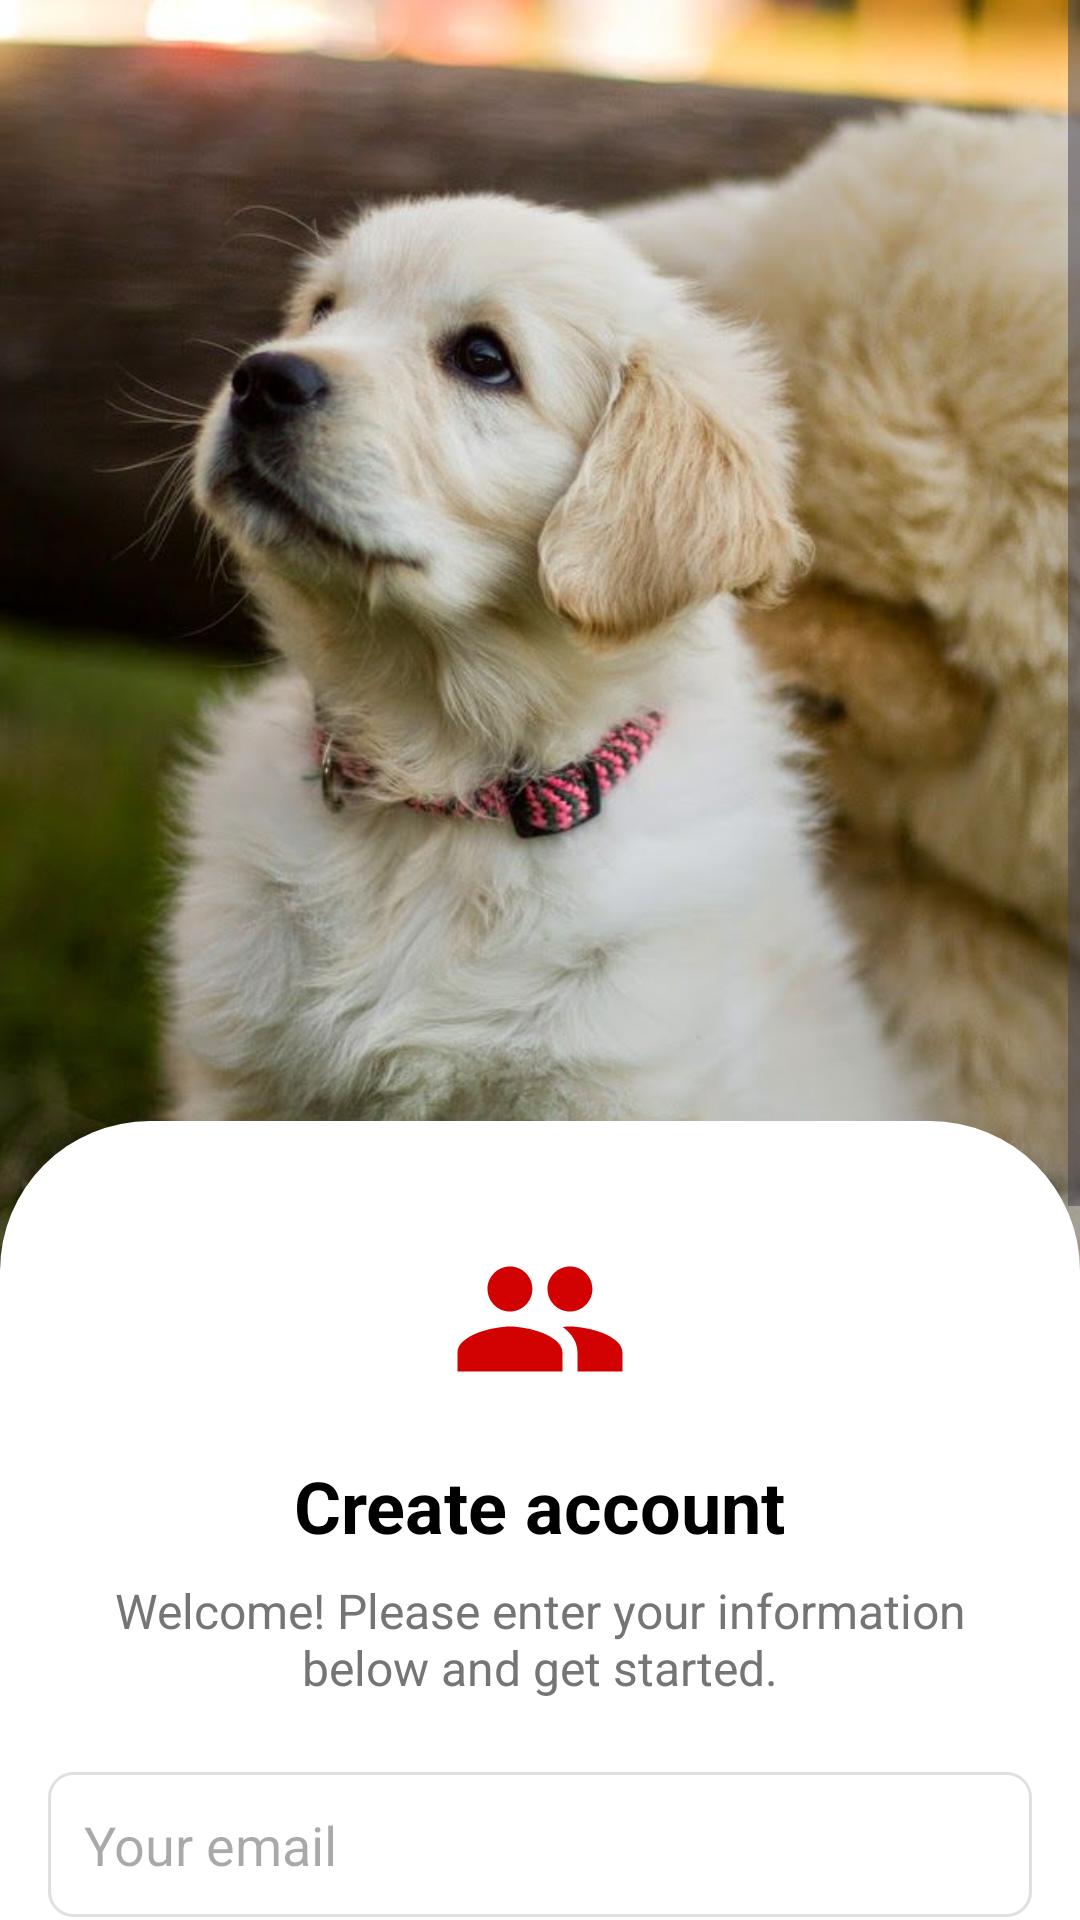

Where to tap for icons on this 1080x1920 app screen, as (x=x, y=y):
people: (x=540, y=1319)
